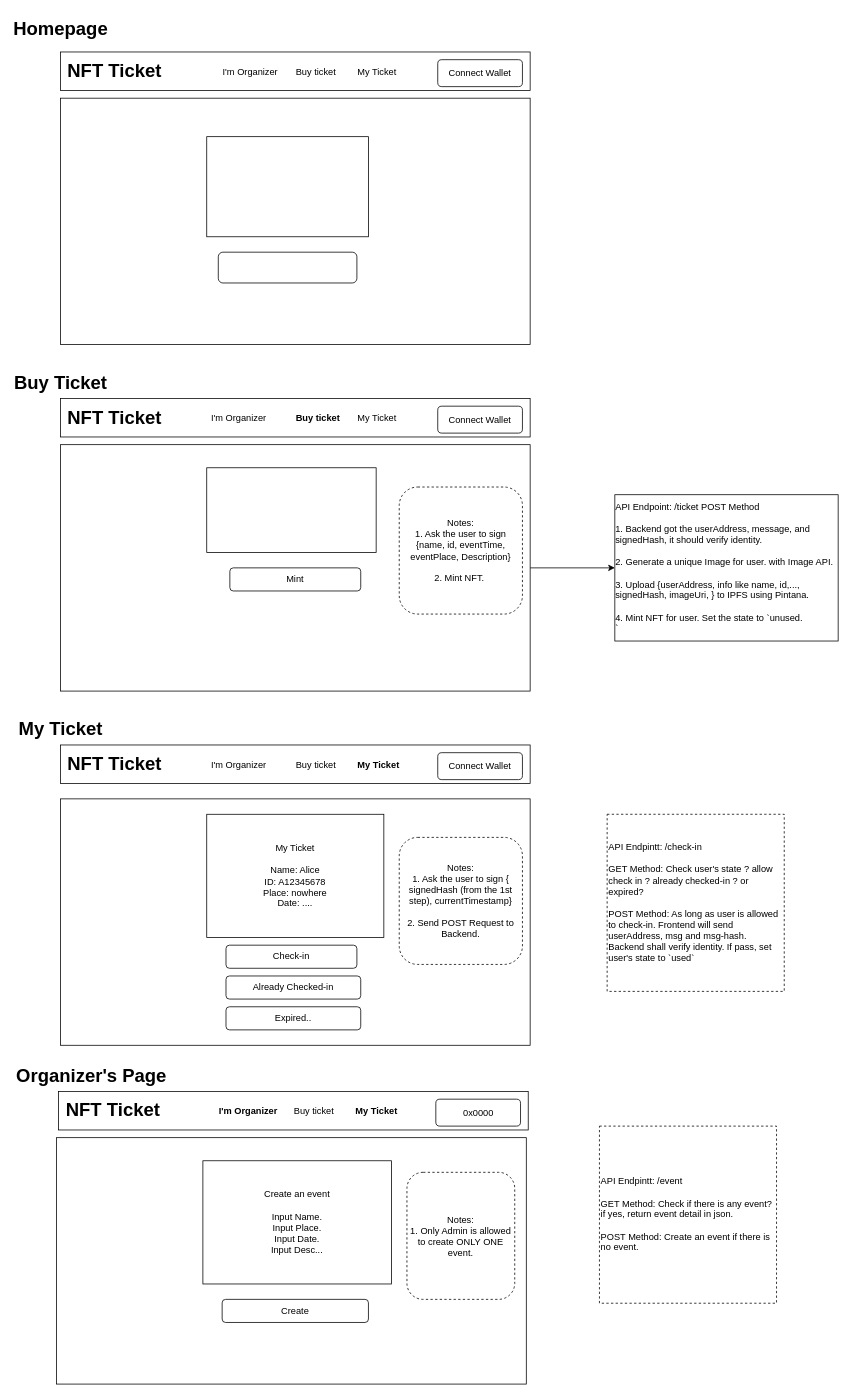
Image size: 852x1398. Some labels were removed from this diagram. The box of each missing label's shape, as (x1, y1, x2, y2) in pixels:
Buy a ticket !: (218, 251, 357, 283)
Buy a ticket / Mint NFT Token Name: Alice ID: A12345678: (206, 467, 376, 552)
Event Details Organizer: foo Place: In the middle of no where ....: (206, 136, 368, 237)
